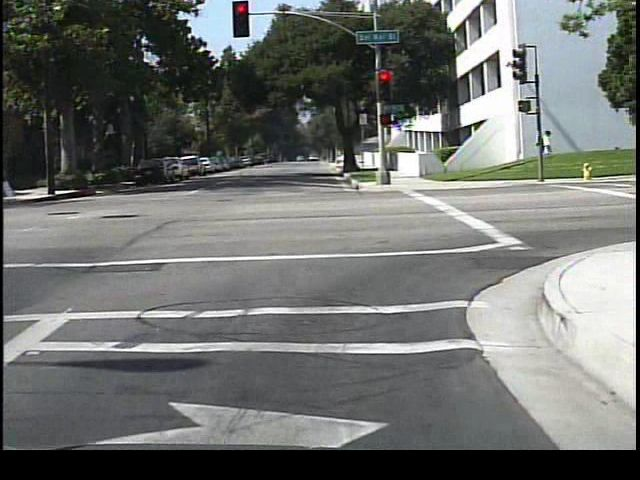person: (530, 127, 554, 175)
